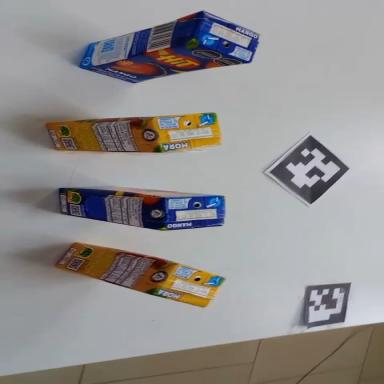HIT-MANGO: (73, 2, 263, 92), (56, 182, 226, 236)
HIT-MORA: (55, 231, 226, 313), (45, 112, 221, 158)
cara_F: (83, 32, 248, 93), (59, 181, 222, 204)
